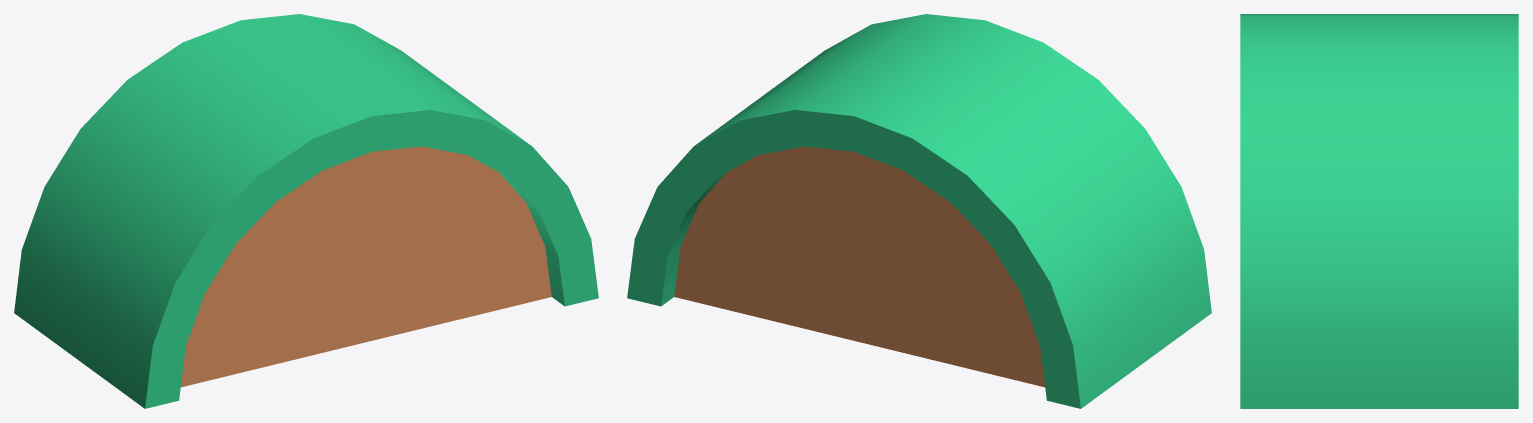
File: blockCurve.glb
The picture shows the model from 3 angles, left to right: view 1: azimuth 30°, elevation 25°; view 2: azimuth 150°, elevation 25°; view 3: azimuth 270°, elevation 25°; orthographic projection. The views are drawn at different scales.
Parts seen in each view (by area): view 1: blockCurve; view 2: blockCurve; view 3: blockCurve.
Boxes of the visible parts, left/top/right/bottom form: blockCurve: left=14, top=14, right=598, bottom=408; blockCurve: left=627, top=14, right=1211, bottom=408; blockCurve: left=1240, top=14, right=1518, bottom=408.
Bounding box in the file's own units: 2 × 1 × 1.
